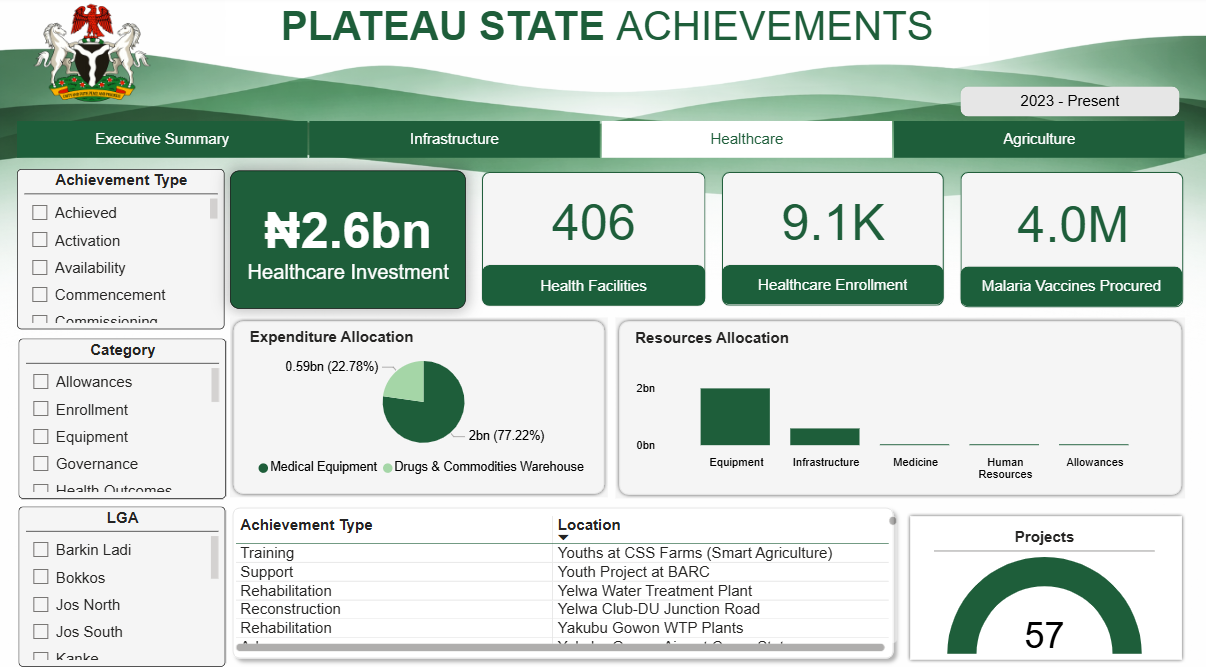

This screenshot's page, from the dashboard's own definition file:
{"tool":"powerbi","page":{"name":"Healthcare","canvas":[1280,720],"ordinal":2},"visuals":[{"type":"textbox","box":[240.2,3.2,809.6,62],"z":0},{"type":"image","box":[0,0,197.2,130.4],"z":1000},{"type":"pageNavigator","box":[19.1,133.6,1239.1,39.8],"z":2000},{"type":"shape","box":[1018,95.4,235.4,35],"z":3000},{"type":"slicer","title":"Achievement Type","fields":{"Values":["KPI_Healthcare.Achievement Type"]},"box":[19.1,184.5,220,170],"z":4000},{"type":"textbox","box":[245,186.8,250,146.6],"z":5000,"group":"g3"},{"type":"slicer","title":"Category","fields":{"Values":["KPI_Healthcare.Category"]},"box":[20,364,220,170],"z":5000},{"type":"card","fields":{"Values":["00_Measures.Healthcare Investment"]},"box":[245,185,250,146.6],"z":6000,"group":"g3"},{"type":"slicer","title":"LGA","fields":{"Values":["KPI_Healthcare.LGA "]},"box":[20.7,542.4,219.5,170.2],"z":6000},{"type":"group","id":"g1","title":"Group 1","box":[765,185,238.3,146.7],"z":7000},{"type":"shape","box":[510,186.8,240,144.9],"z":7000,"group":"g2"},{"type":"group","id":"g2","title":"Group 3","box":[510,185,240,146.7],"z":8000},{"type":"shape","box":[765,186.8,238.3,144.9],"z":8000,"group":"g1"},{"type":"group","id":"g3","title":"Group 4","box":[245,185,250,146.7],"z":9000},{"type":"shape","box":[1018.3,186.7,239.3,146.7],"z":9000,"group":"g4"},{"type":"card","fields":{"Values":["00_Measures.Health Facilities"]},"box":[510,185,240,105.5],"z":10000,"group":"g2"},{"type":"group","id":"g4","title":"Group 5","box":[1018.3,186.7,240,146.7],"z":10000},{"type":"shape","box":[962,548,296,160],"z":10000,"group":"g5"},{"type":"card","fields":{"Values":["00_Measures.Healthcare Enrollment"]},"box":[765,185,238.3,105.5],"z":11000,"group":"g1"},{"type":"group","id":"g5","title":"Group 2","box":[962,548,296,160],"z":11000},{"type":"card","fields":{"Values":["00_Measures.Malaria Vaccines Procured"]},"box":[1019.5,187,238.8,106.6],"z":12000,"group":"g4"},{"type":"gauge","title":"Projects","fields":{"Y":["CountNonNull(KPI_Healthcare.Category)"]},"box":[971.9,559.9,273.6,143.2],"z":12000},{"type":"shape","box":[510,285.2,240,46.5],"z":13000,"group":"g2"},{"type":"shape","box":[238.6,534.4,719,178.1],"z":13000},{"type":"shape","box":[765,285.8,238.1,45],"z":14000,"group":"g1"},{"type":"tableEx","fields":{"Values":["KPI_Main_Dataset.Achievement Type","KPI_Main_Dataset.Location"]},"box":[245,547.2,712.6,154.3],"z":14000},{"type":"shape","box":[1018.3,287,238.5,45.4],"z":15000,"group":"g4"},{"type":"group","id":"g6","title":"Group 6","box":[245,342,400.8,192.5],"z":15000},{"type":"shape","box":[245,342,400.7,191],"z":15000,"group":"g6"},{"type":"shape","box":[654.3,341.7,604,192],"z":16000,"group":"g7"},{"type":"pieChart","title":"Expenditure Allocation","fields":{"Category":["KPI_Healthcare.Location"],"Y":["Sum(KPI_Healthcare.Value)"]},"box":[261.5,353.2,377.9,167.4],"z":16000,"group":"g6"},{"type":"columnChart","title":"Resources Allocation","fields":{"Category":["KPI_Healthcare.Category"],"Y":["Sum(KPI_Healthcare.Value)"]},"box":[671,355,573.3,168.3],"z":17000,"group":"g7"},{"type":"group","id":"g7","title":"Group 7","box":[654.3,341.7,604,192],"z":17001}]}

Visuals, with their boxes in screenshot pixels (x1, y1, x2, y2), scaled from the page's 1280x720 canvas onto the 1206x667 screenshot:
textbox: box=[226, 3, 989, 60]
image: box=[0, 0, 186, 121]
pageNavigator: box=[18, 124, 1185, 161]
shape: box=[959, 88, 1181, 121]
"Achievement Type" slicer: box=[18, 171, 225, 328]
textbox: box=[231, 173, 466, 309]
"Category" slicer: box=[19, 337, 226, 495]
card - 00_Measures.Healthcare Investment: box=[231, 171, 466, 307]
"LGA" slicer: box=[20, 502, 226, 660]
"Group 1" group: box=[721, 171, 945, 307]
shape: box=[481, 173, 707, 307]
"Group 3" group: box=[481, 171, 707, 307]
shape: box=[721, 173, 945, 307]
"Group 4" group: box=[231, 171, 466, 307]
shape: box=[959, 173, 1185, 309]
card - 00_Measures.Health Facilities: box=[481, 171, 707, 269]
"Group 5" group: box=[959, 173, 1186, 309]
shape: box=[906, 508, 1185, 656]
card - 00_Measures.Healthcare Enrollment: box=[721, 171, 945, 269]
"Group 2" group: box=[906, 508, 1185, 656]
card - 00_Measures.Malaria Vaccines Procured: box=[961, 173, 1186, 272]
"Projects" gauge: box=[916, 519, 1173, 651]
shape: box=[481, 264, 707, 307]
shape: box=[225, 495, 902, 660]
shape: box=[721, 265, 945, 306]
tableEx - KPI_Main_Dataset.Achievement Type x KPI_Main_Dataset.Location: box=[231, 507, 902, 650]
shape: box=[959, 266, 1184, 308]
"Group 6" group: box=[231, 317, 608, 495]
shape: box=[231, 317, 608, 494]
shape: box=[616, 317, 1186, 494]
"Expenditure Allocation" pieChart: box=[246, 327, 602, 482]
"Resources Allocation" columnChart: box=[632, 329, 1172, 485]
"Group 7" group: box=[616, 317, 1186, 494]
